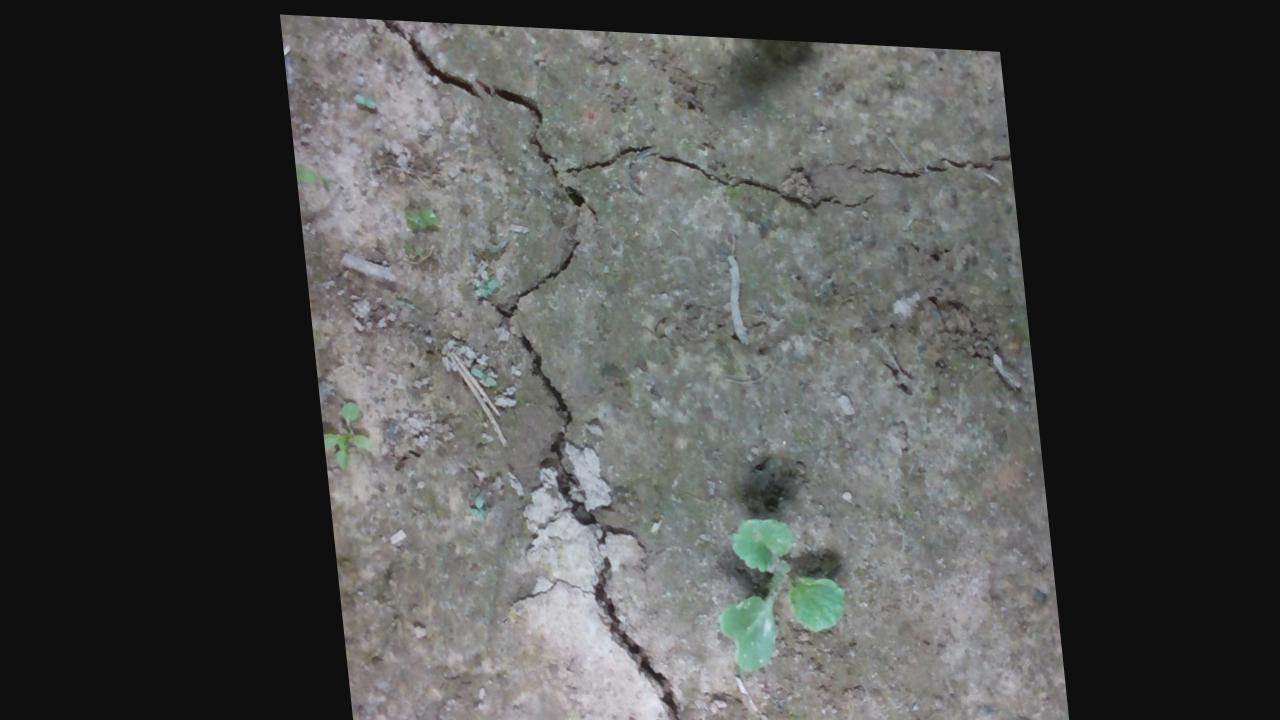weed: (458, 240, 506, 300), (453, 491, 482, 520)
